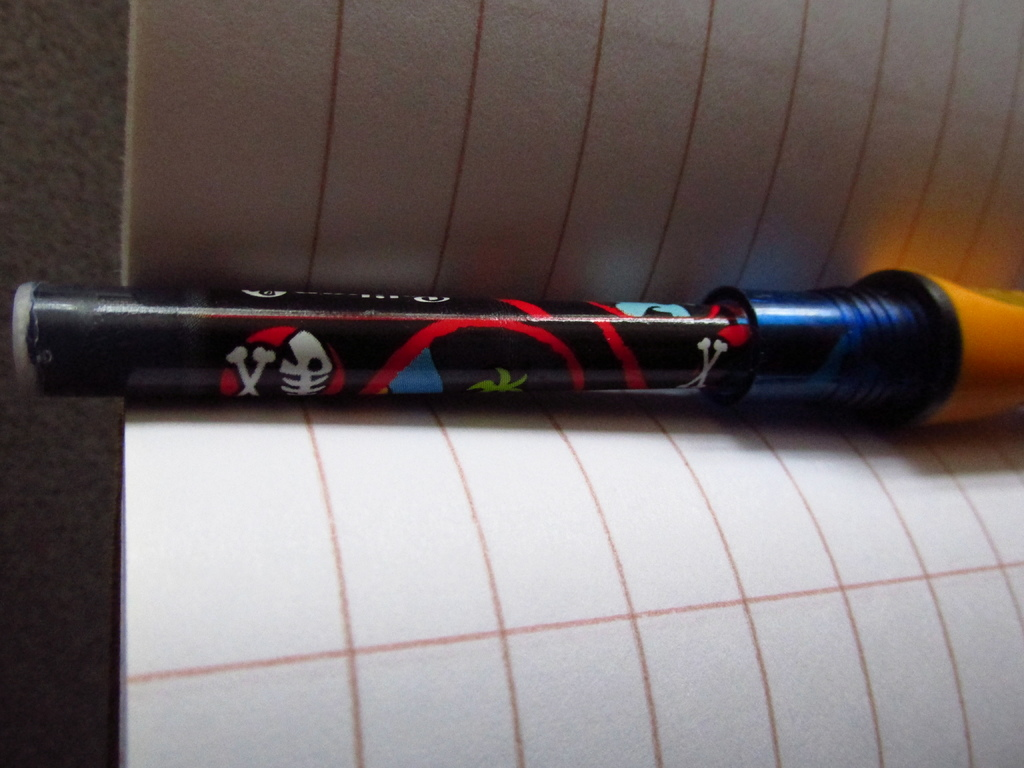Pen: (8, 271, 1023, 425)
